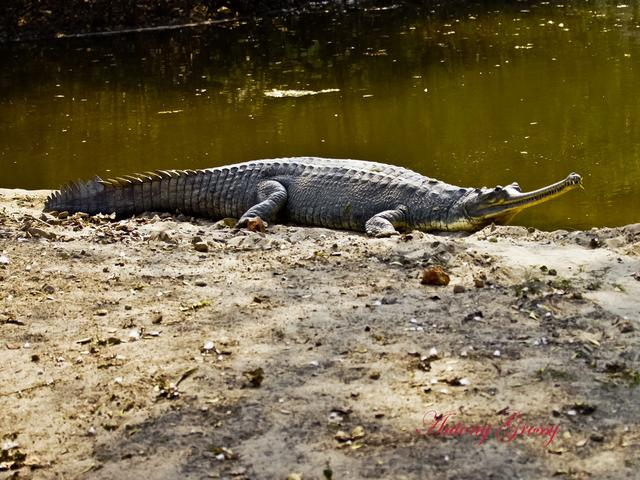crocodile: (44, 124, 609, 280)
